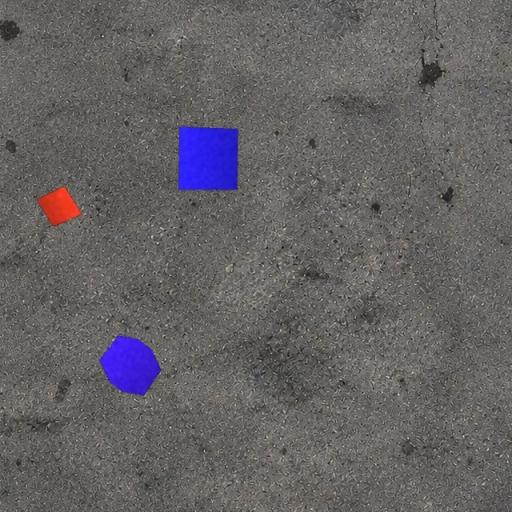BLUE_SQUARE: (178, 126, 239, 191)
RED_SQUARE: (36, 185, 82, 227)
